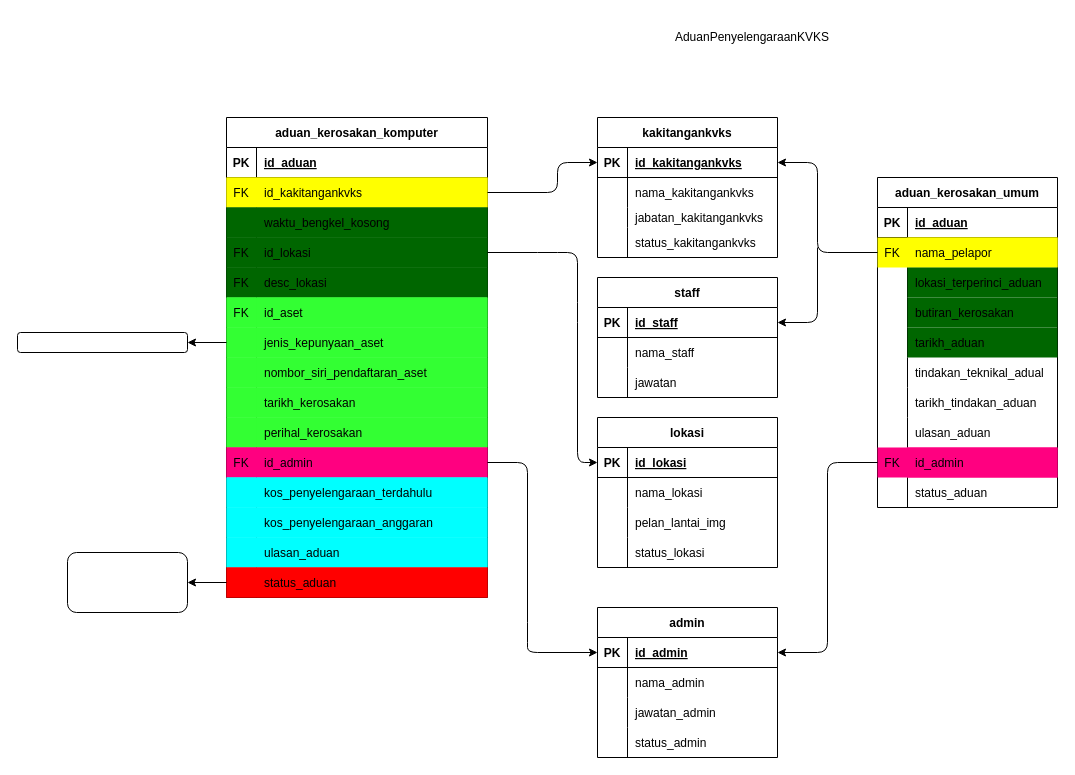
The diagram is 1075 pixels wide and 775 high, and some of its shapes have lost their labels. Each missing label, with the centre of its shape:
1 = user dah isi 2 = pegawai dah isi 3 = siap diselengara: (127,582)
Persendirian / Sumbangan: (102,342)
